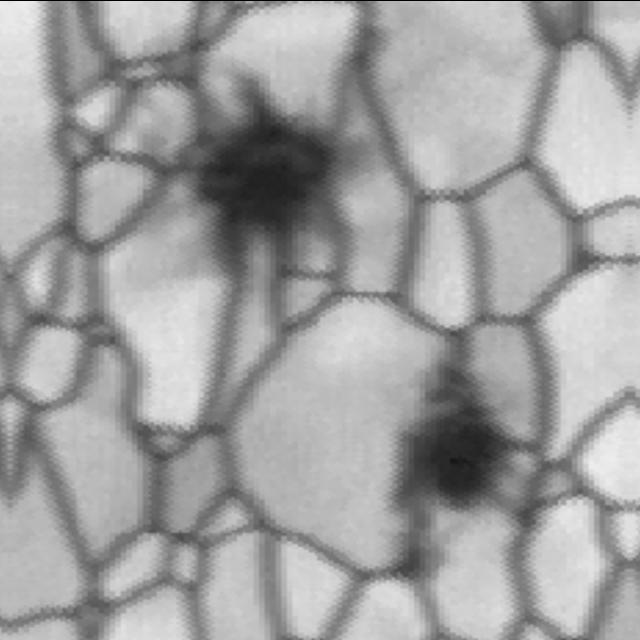good_void: (173, 37, 383, 268), (377, 341, 547, 530)
